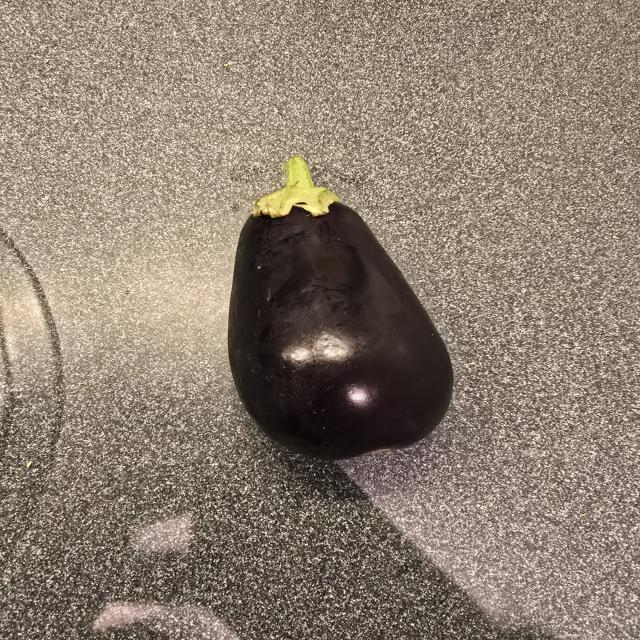Eggplant: (214, 147, 474, 471)
